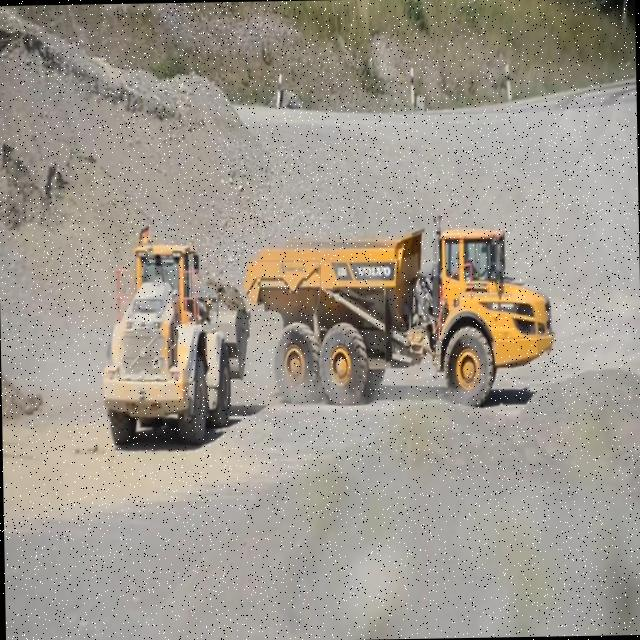Dump Truck: (238, 210, 556, 410)
Loader: (100, 238, 252, 452)
